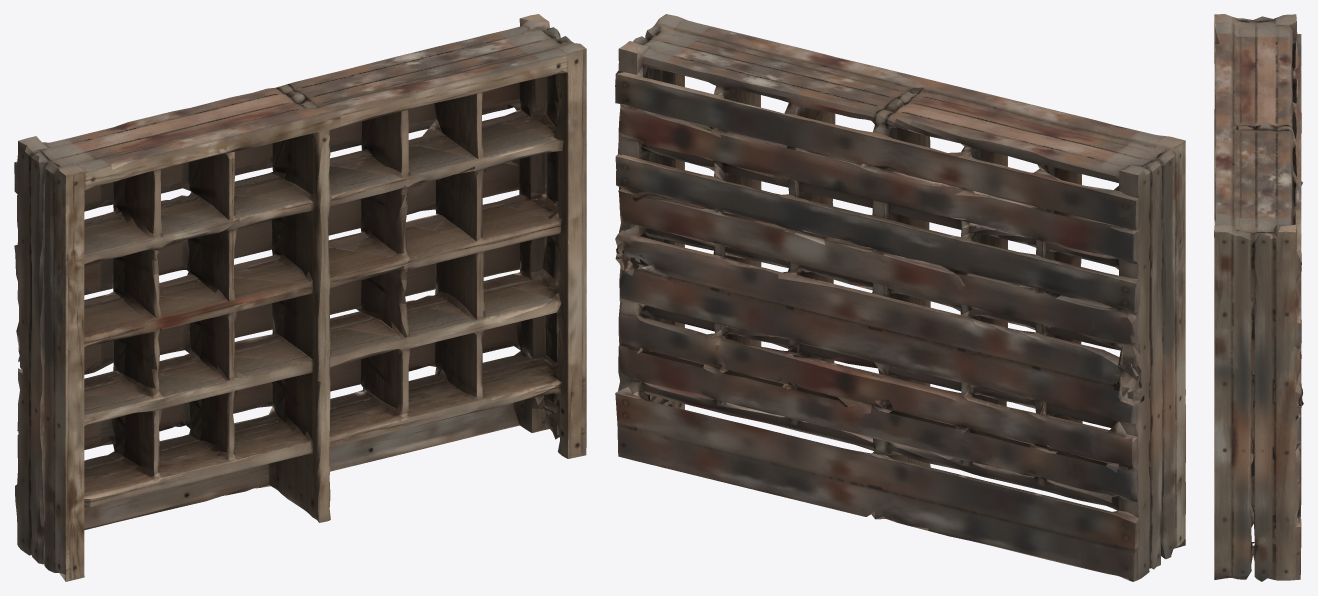
File: Meshy_AI_Rustic_Wooden_Shelves_0518214237_texture.fbx
3 renders of one model, left to right at view 1: azimuth 30°, elevation 25°; view 2: azimuth 150°, elevation 25°; view 3: azimuth 270°, elevation 25°, orthographic. The views are drawn at different scales.
Parts seen in each view (by area): view 1: Mesh0; view 2: Mesh0; view 3: Mesh0.
Boxes of the visible parts, x1=… form: Mesh0: x1=14, y1=14, x2=586, y2=581; Mesh0: x1=615, y1=14, x2=1185, y2=581; Mesh0: x1=1214, y1=14, x2=1303, y2=581.
Bounding box in the file's own units: 200 × 150 × 34.79.
1 material, 1 textured.
